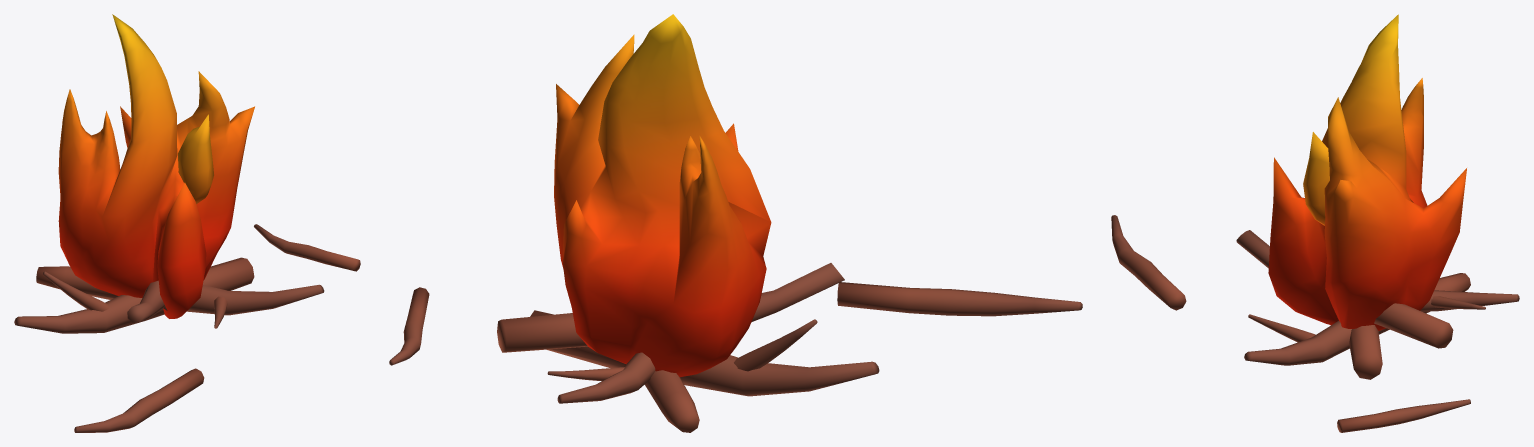
Rendered from Flame_01.fbx.
3 views of the same model, side by side, from view 1: azimuth 30°, elevation 25°; view 2: azimuth 150°, elevation 25°; view 3: azimuth 270°, elevation 25° (orthographic). The views are drawn at different scales.
Parts seen in each view (by area): view 1: Flame_01; view 2: Flame_01; view 3: Flame_01.
Boxes of the visible parts, bbox=[...] form: Flame_01: bbox=[14, 14, 360, 432]; Flame_01: bbox=[389, 14, 1082, 432]; Flame_01: bbox=[1111, 14, 1519, 432].
Bounding box in the file's own units: 186 × 133 × 158.
